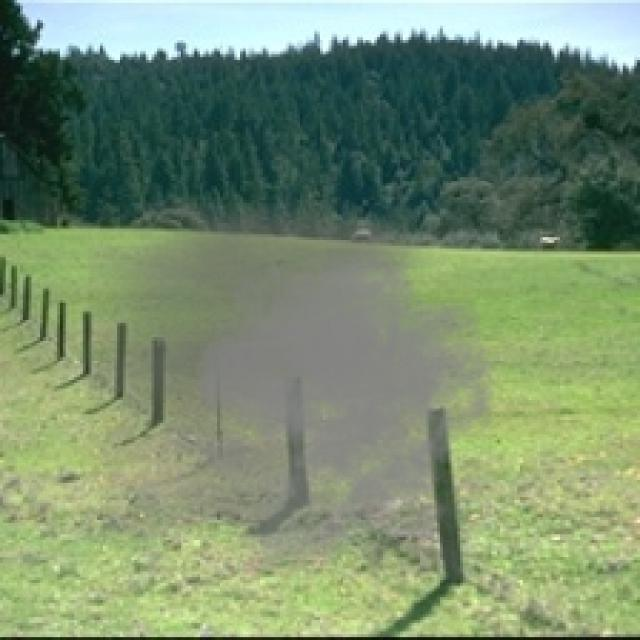Smoke: (88, 195, 506, 580)
